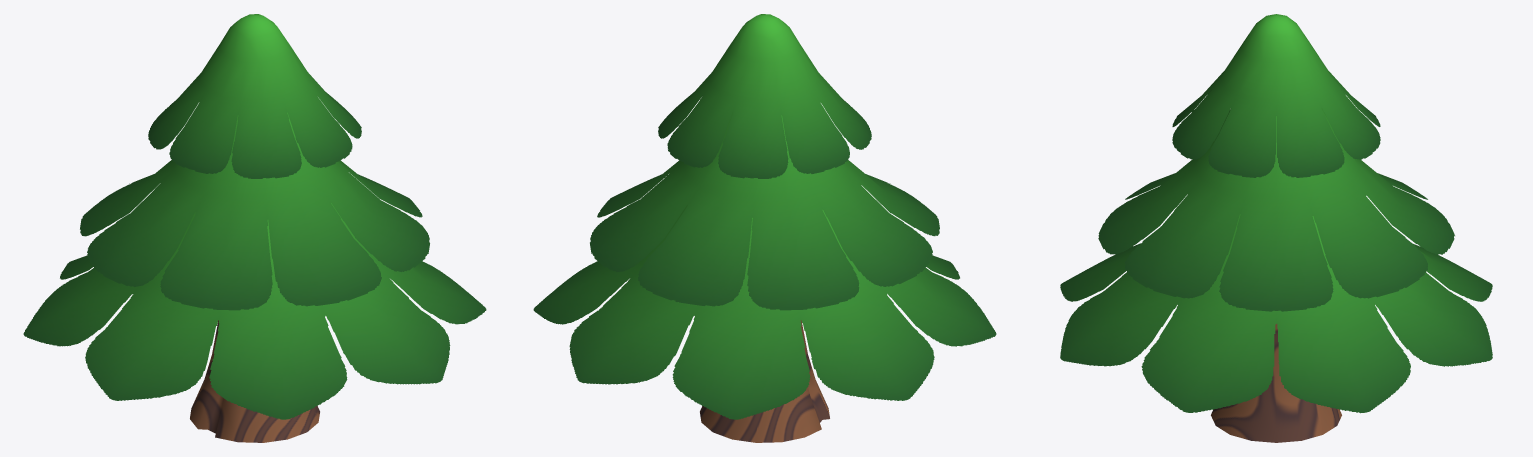
The model's file is tree.glb.
3 views of the same model, side by side, from view 1: azimuth 30°, elevation 25°; view 2: azimuth 150°, elevation 25°; view 3: azimuth 270°, elevation 25° (orthographic).
Visible parts, largest first — view 1: Tree; view 2: Tree; view 3: Tree.
Part boxes in pixels (left/top/right/bottom): Tree: left=23, top=14, right=486, bottom=442; Tree: left=533, top=14, right=996, bottom=442; Tree: left=1060, top=14, right=1492, bottom=442.
Bounding box in the file's own units: 1.78 × 1.61 × 1.78.
1 material, 1 textured.
